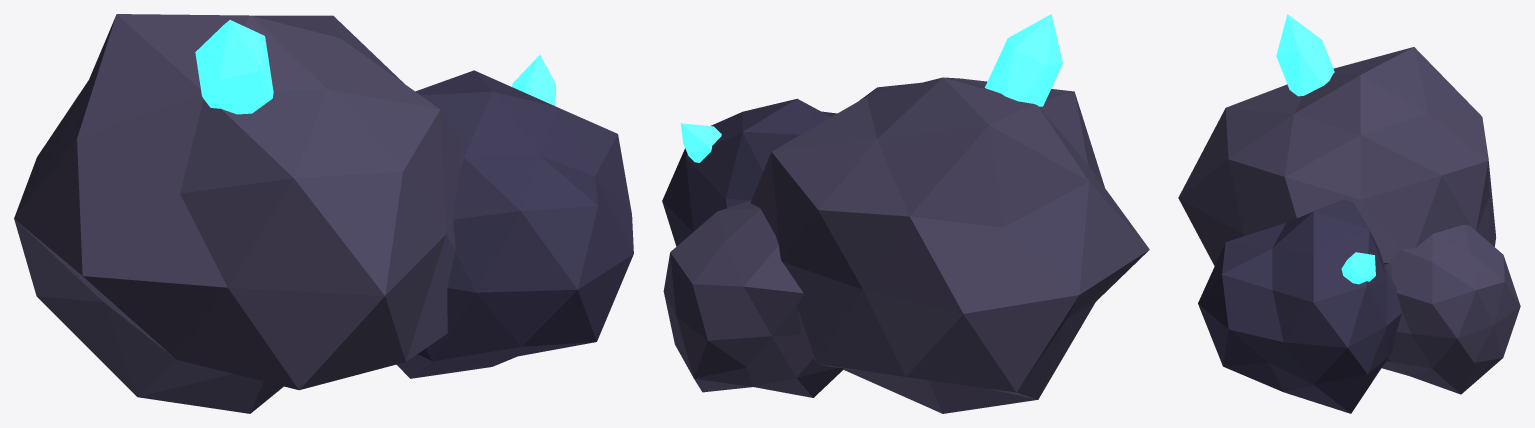
Rendered from asteroid_b.glb.
The picture shows the model from 3 angles, left to right: view 1: azimuth 30°, elevation 25°; view 2: azimuth 150°, elevation 25°; view 3: azimuth 270°, elevation 25°; orthographic projection. The views are drawn at different scales.
Visible parts, largest first — view 1: RockB1, RockB2, CrysB1, CrysB2; view 2: RockB1, RockB3, RockB2, CrysB1, CrysB2; view 3: RockB1, RockB2, RockB3, CrysB1, CrysB2.
Boxes of the visible parts, box(x1,y1,x2,y2) form: RockB1: box(14, 14, 462, 413); RockB2: box(396, 70, 633, 378); CrysB1: box(195, 20, 273, 114); CrysB2: box(512, 55, 555, 106); RockB1: box(750, 77, 1149, 413); RockB3: box(663, 200, 844, 397); RockB2: box(662, 98, 837, 246); CrysB1: box(985, 14, 1062, 106); CrysB2: box(680, 123, 721, 162); RockB1: box(1178, 47, 1496, 265); RockB2: box(1198, 199, 1401, 413); RockB3: box(1382, 225, 1520, 394); CrysB1: box(1276, 14, 1334, 96); CrysB2: box(1341, 252, 1375, 284).
Size of the model in its own units: 2.09 by 1.65 by 1.67.
